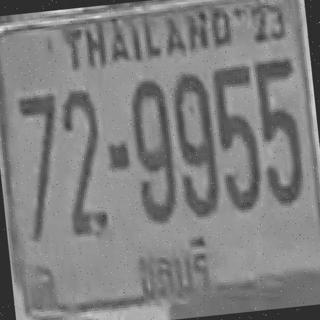N00: (126, 78, 172, 171)
N02: (59, 87, 105, 208)
N05: (252, 56, 298, 142), (210, 63, 256, 149)
N07: (16, 92, 62, 185)
N09: (127, 81, 178, 223), (170, 80, 220, 216), (128, 96, 178, 223)
P13: (125, 232, 226, 306)
